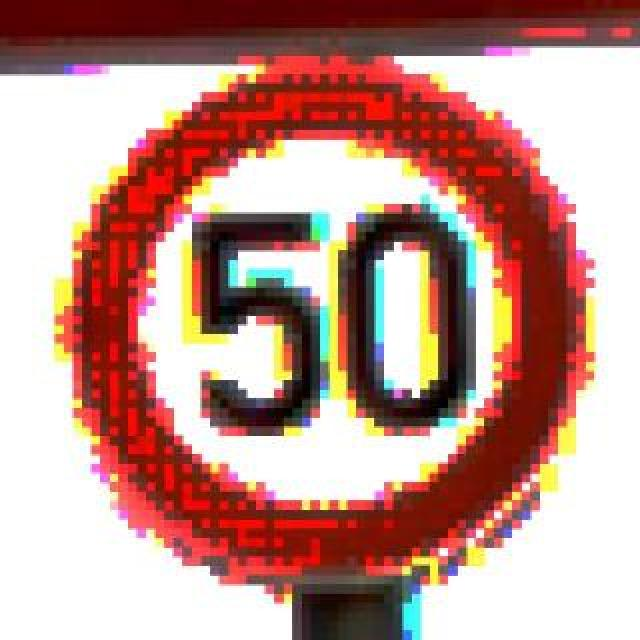50 kph: (64, 66, 576, 576)
